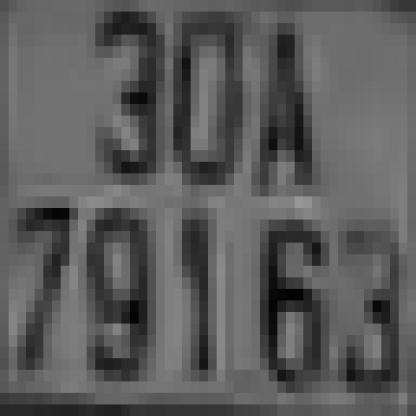0: (173, 11, 243, 185)
1: (165, 208, 225, 381)
3: (95, 23, 165, 185)
6: (251, 208, 321, 381)
7: (9, 208, 78, 370)
9: (87, 208, 156, 370)
A: (251, 12, 321, 196)
